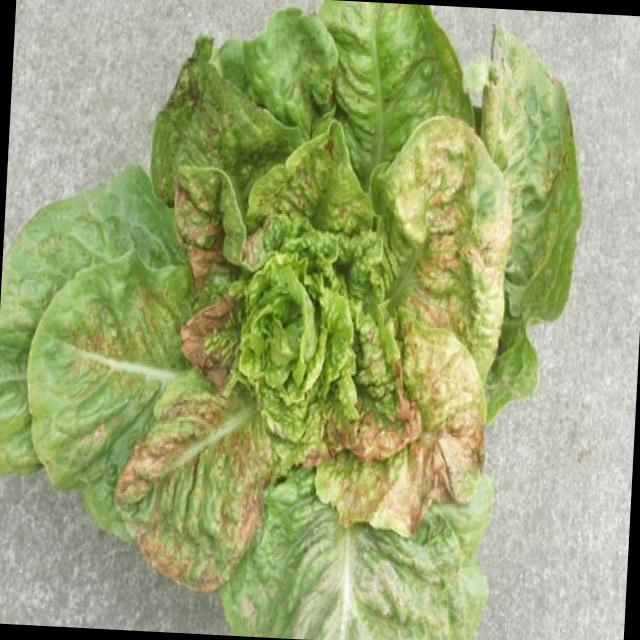Bacterial: (160, 118, 470, 491)
